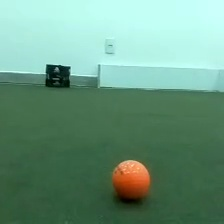ball: (109, 157, 153, 205)
goal: (95, 61, 224, 93)
robot: (43, 61, 72, 88)
